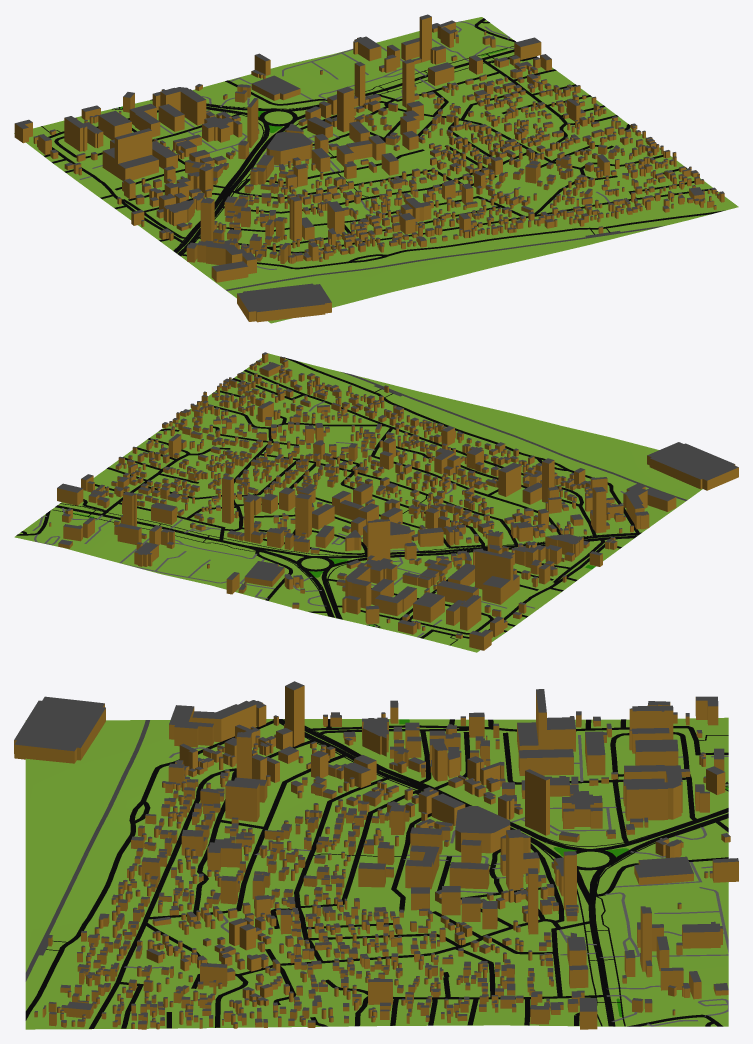
File: tile_10_03.glb
3 renders of one model, top to bottom at view 1: azimuth 30°, elevation 25°; view 2: azimuth 150°, elevation 25°; view 3: azimuth 270°, elevation 25°, orthographic. The views are drawn at different scales.
Parts seen in each view (by area): view 1: Ub_small.osm_buildings_10_03, Terrain_10_03, Ub_small.osm_roads_residential_10_03, Ub_small.osm_roads_service_10_03, Ub_small.osm_roads_primary_10_03, Ub_small.osm_railways_10_03, Ub_small.osm_roads_trunk_10_03, Ub_small.osm_paths_footway_10_03; view 2: Ub_small.osm_buildings_10_03, Terrain_10_03, Ub_small.osm_roads_residential_10_03, Ub_small.osm_roads_service_10_03, Ub_small.osm_roads_trunk_10_03, Ub_small.osm_paths_footway_10_03, Ub_small.osm_roads_primary_10_03, Ub_small.osm_railways_10_03; view 3: Ub_small.osm_buildings_10_03, Terrain_10_03, Ub_small.osm_roads_residential_10_03, Ub_small.osm_roads_service_10_03, Ub_small.osm_roads_trunk_10_03, Ub_small.osm_paths_footway_10_03, Ub_small.osm_roads_primary_10_03, Ub_small.osm_railways_10_03, Ub_small.osm_roads_unclassified_10_03.
Boxes of the visible parts, box(x1,y1,x2,y2) form: Ub_small.osm_buildings_10_03: box(14, 14, 724, 322); Terrain_10_03: box(14, 17, 738, 323); Ub_small.osm_roads_residential_10_03: box(44, 21, 725, 269); Ub_small.osm_roads_service_10_03: box(74, 21, 610, 269); Ub_small.osm_roads_primary_10_03: box(174, 122, 293, 255); Ub_small.osm_railways_10_03: box(226, 225, 664, 290); Ub_small.osm_roads_trunk_10_03: box(151, 49, 514, 126); Ub_small.osm_paths_footway_10_03: box(41, 46, 610, 256); Ub_small.osm_buildings_10_03: box(49, 352, 738, 650); Terrain_10_03: box(14, 353, 702, 652); Ub_small.osm_roads_residential_10_03: box(21, 356, 639, 638); Ub_small.osm_roads_service_10_03: box(32, 401, 624, 637); Ub_small.osm_roads_trunk_10_03: box(55, 505, 341, 619); Ub_small.osm_paths_footway_10_03: box(51, 388, 641, 645); Ub_small.osm_roads_primary_10_03: box(317, 533, 640, 566); Ub_small.osm_railways_10_03: box(341, 372, 687, 500); Ub_small.osm_buildings_10_03: box(14, 681, 738, 1029); Terrain_10_03: box(25, 717, 728, 1029); Ub_small.osm_roads_residential_10_03: box(25, 719, 728, 1028); Ub_small.osm_roads_service_10_03: box(124, 735, 728, 1026); Ub_small.osm_roads_trunk_10_03: box(575, 808, 728, 1026); Ub_small.osm_paths_footway_10_03: box(46, 719, 728, 1026); Ub_small.osm_roads_primary_10_03: box(279, 719, 585, 858); Ub_small.osm_railways_10_03: box(25, 720, 149, 981); Ub_small.osm_roads_unclassified_10_03: box(592, 857, 728, 1026).
Size of the model in its own units: 1019 by 99.83 by 959.
